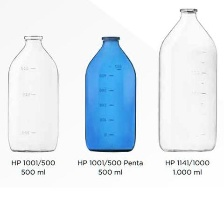bottle: (154, 4, 222, 153), (4, 29, 66, 154), (81, 33, 142, 156)
